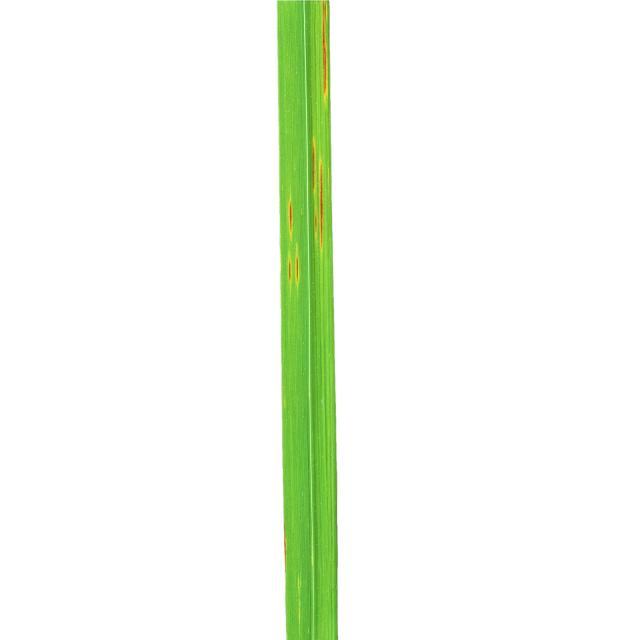Narrow brown: (222, 0, 368, 640)
